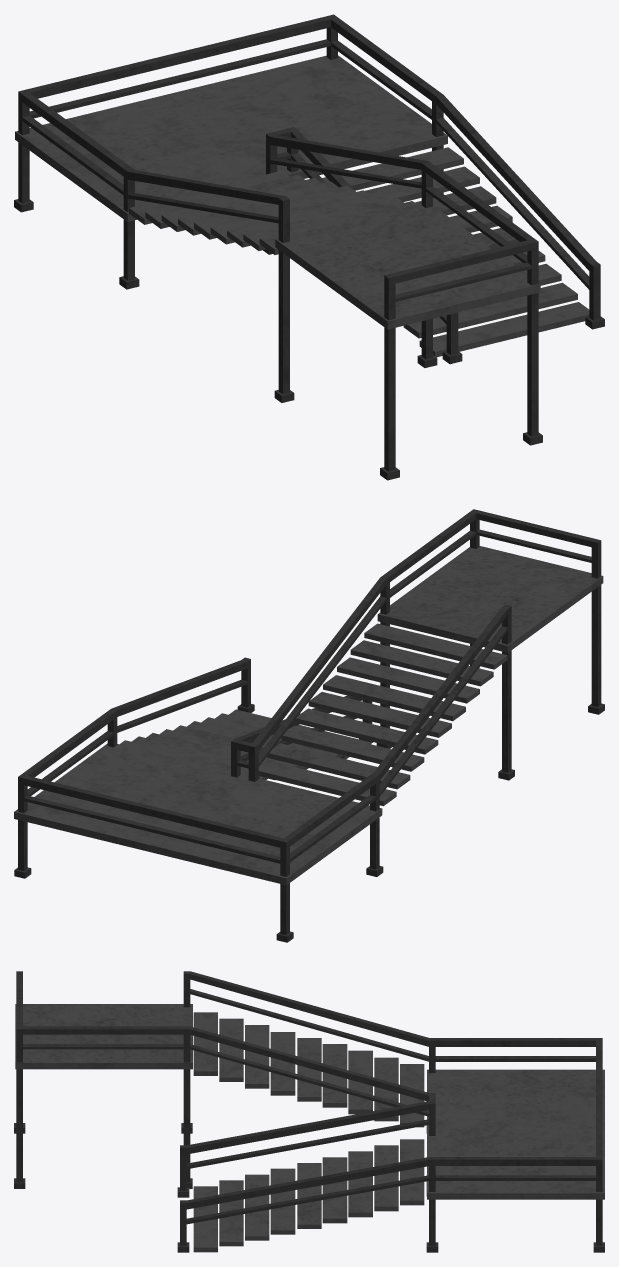
The model's file is Heli2.fbx.
3 views of the same model, one above another, from view 1: azimuth 30°, elevation 25°; view 2: azimuth 150°, elevation 25°; view 3: azimuth 270°, elevation 25° (orthographic). The views are drawn at different scales.
Visible parts, largest first — view 1: Plane.002; view 2: Plane.002; view 3: Plane.002.
Boxes of the visible parts, box(x1,y1,x2,y2) form: Plane.002: box(14, 14, 604, 480); Plane.002: box(14, 509, 604, 942); Plane.002: box(14, 971, 604, 1252).
Size of the model in its own units: 943 by 562 by 1897.
Materials: 2 (2 with a texture image).
